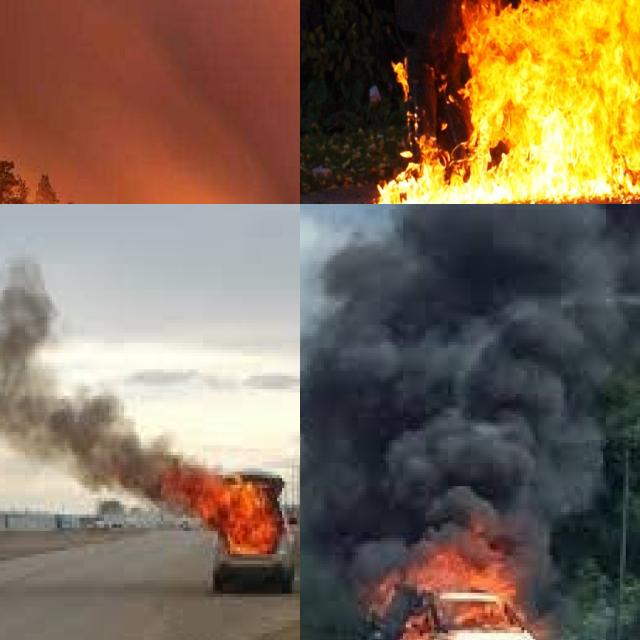fire: (360, 0, 640, 204), (355, 512, 558, 640), (144, 452, 299, 574)
smoke: (300, 204, 640, 613), (0, 0, 300, 204), (0, 214, 166, 507)
